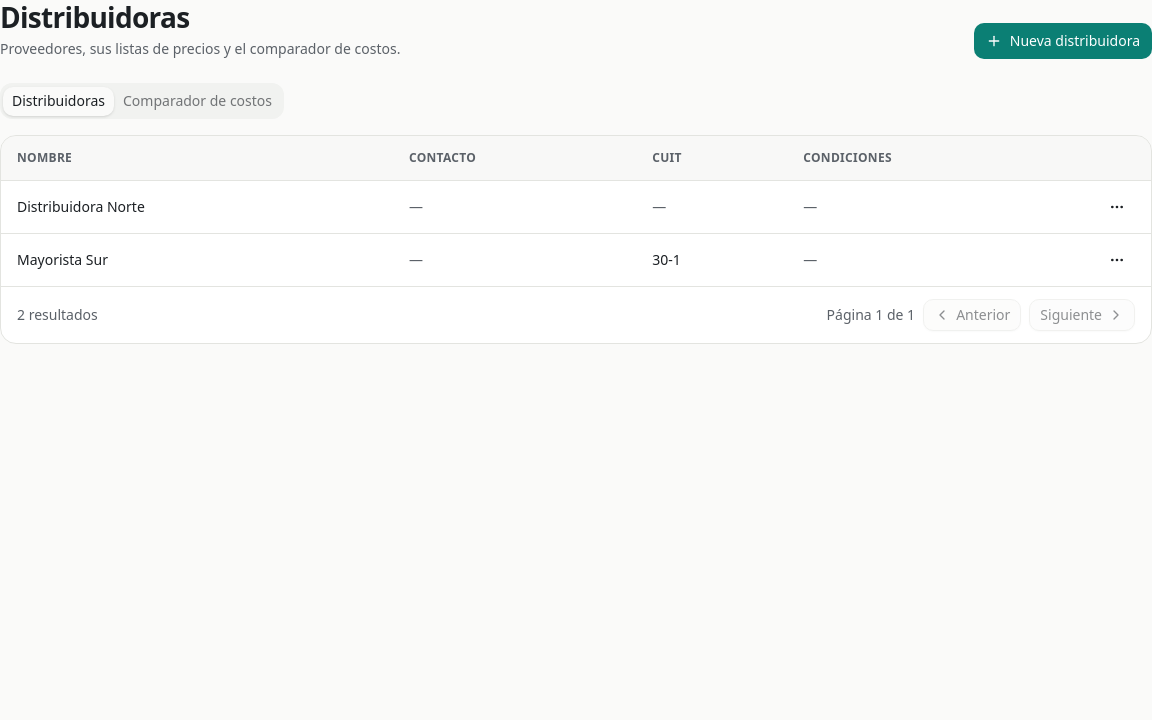
DistribuidorasPage › la dueña crea una distribuidora con el panel lateral (valida el nombre antes de enviar)
The image size is (1152, 720).
Click the button "Nueva distribuidora" at (1063, 41), box 974,23 -> 1151,59
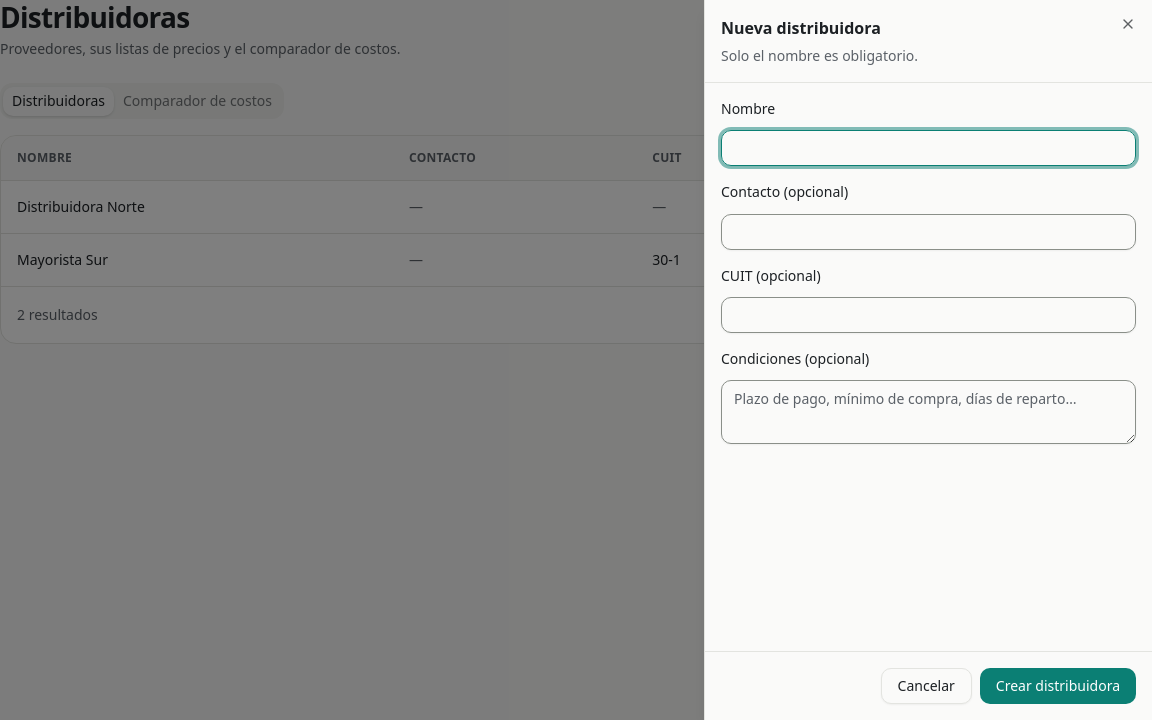
Click the button "Crear distribuidora" at (1058, 686), box 980,668 -> 1136,704
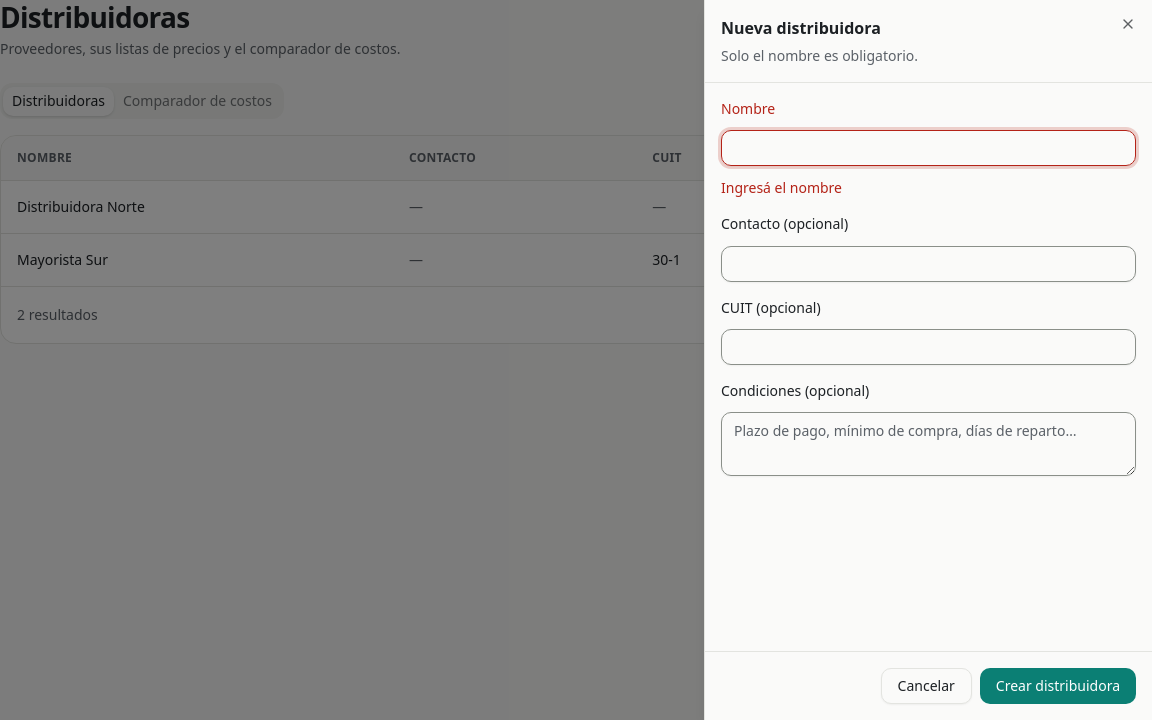
Result: the text "Ingresá el nombre" is shown at 721,178 -> 842,197
Type "Pet Mayorista" into the field labelled "Nombre" at (928, 148), box 721,130 -> 1136,166
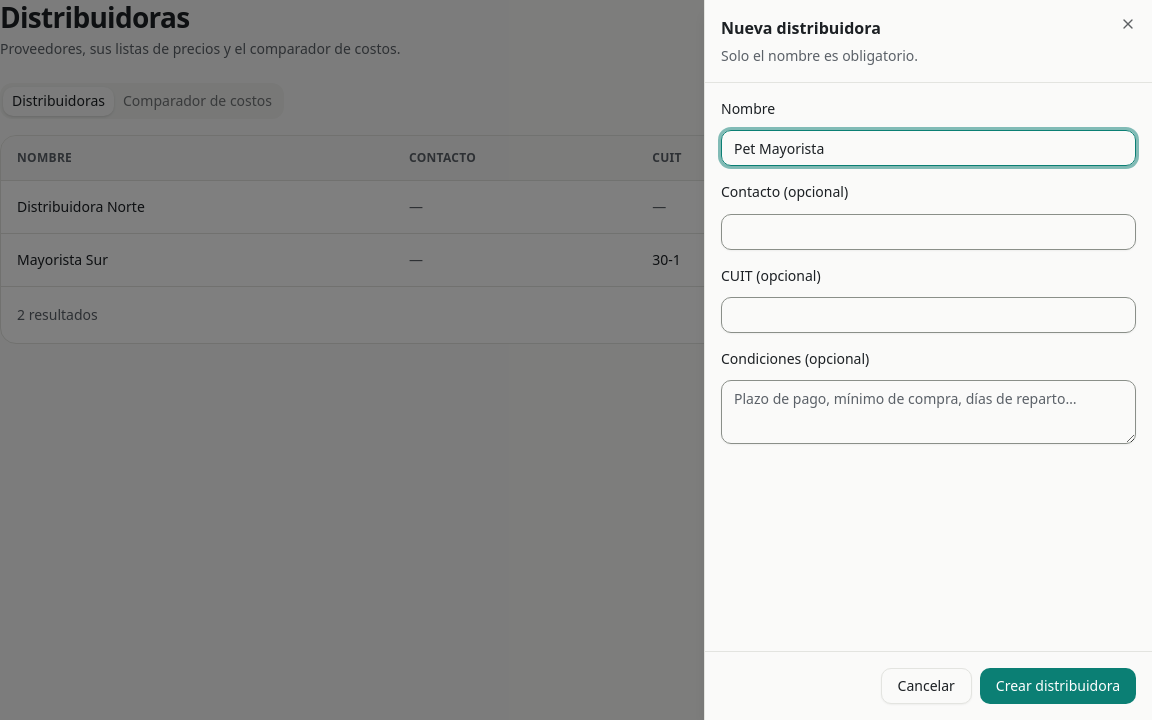
Click the button "Crear distribuidora" at (1058, 686), box 980,668 -> 1136,704
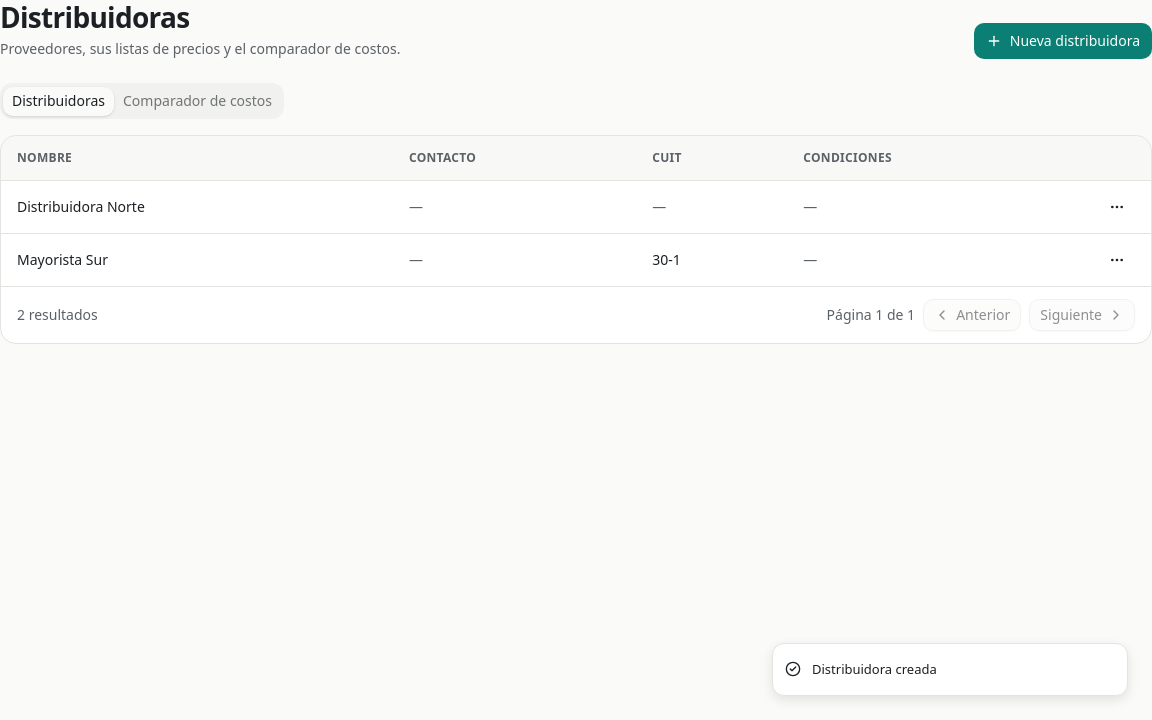
Result: the text "Distribuidora creada" is shown at 812,660 -> 937,679
